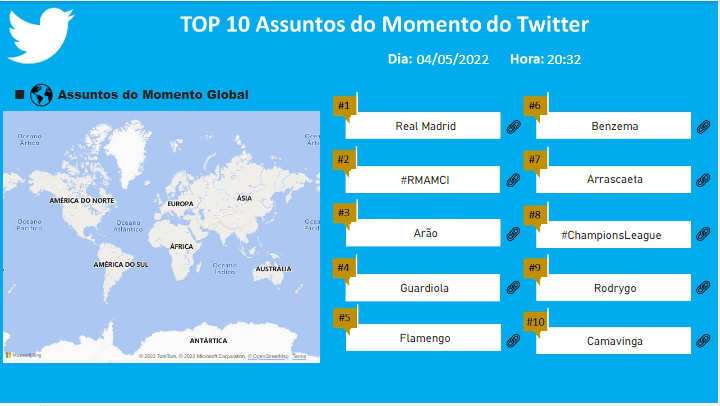

Layout of this report page (visuals, bound fields, positions):
{"tool":"powerbi","page":{"name":"Página 1","canvas":[1280,720],"ordinal":0},"visuals":[{"type":"filledMap","fields":{"Category":["trends.País"]},"box":[0,190.7,575.6,459.8],"z":0},{"type":"card","fields":{"Values":["Min(trends.name)"]},"box":[625.5,203.2,265.5,39.2],"z":1000},{"type":"card","fields":{"Values":["Min(trends.name)"]},"box":[625.5,299.4,263.8,39.2],"z":2000},{"type":"card","fields":{"Values":["Min(trends.name)"]},"box":[623.8,491.9,265.5,39.2],"z":3000},{"type":"card","fields":{"Values":["Min(trends.name)"]},"box":[625.5,393.9,265.5,39.2],"z":4000},{"type":"card","fields":{"Values":["Min(trends.name)"]},"box":[625.5,582.8,263.8,37.4],"z":5000},{"type":"card","fields":{"Values":["Min(trends.name)"]},"box":[962.4,203.2,267.3,39.2],"z":6000},{"type":"card","fields":{"Values":["Min(trends.name)"]},"box":[962.4,299.4,267.3,37.4],"z":7000},{"type":"card","fields":{"Values":["Min(trends.name)"]},"box":[964.2,491.9,263.8,39.2],"z":8000},{"type":"card","fields":{"Values":["Min(trends.name)"]},"box":[964.2,397.4,251.3,39.2],"z":9000},{"type":"card","fields":{"Values":["Min(trends.name)"]},"box":[964.2,588.1,263.8,37.4],"z":10000},{"type":"slicer","fields":{"Values":["trends.País"]},"box":[13.9,146.1,41.7,40],"z":11000},{"type":"textbox","box":[98,146.1,388.5,46.3],"z":12000},{"type":"image","box":[43.4,142.6,60.9,50.4],"z":13000},{"type":"actionButton","box":[890.4,193,50.4,52.2],"z":14000},{"type":"actionButton","box":[890.4,290.4,50.4,53.9],"z":15000},{"type":"actionButton","box":[890.4,384.3,50.4,52.2],"z":16000},{"type":"actionButton","box":[890.4,481.7,50.4,52.2],"z":17000},{"type":"actionButton","box":[890.4,570.4,50.4,53.9],"z":18000},{"type":"actionButton","box":[1227.8,193,50.4,52.2],"z":19000},{"type":"actionButton","box":[1227.8,290.4,50.4,53.9],"z":20000},{"type":"actionButton","box":[1227.8,387.8,50.4,52.2],"z":21000},{"type":"actionButton","box":[1227.8,483.5,50.4,52.2],"z":22000},{"type":"actionButton","box":[1227.8,577.4,50.4,52.2],"z":23000},{"type":"card","fields":{"Values":["Min(trends.data.1)"]},"box":[723.6,87.3,165.7,32.1],"z":23001},{"type":"card","fields":{"Values":["Min(trends.data.2)"]},"box":[964.2,87.3,82,32.1],"z":23002}]}

Visuals, with their boxes in screenshot pixels (x1, y1, x2, y2), scaled from the page's 1280x720 canvas onto the 720x406 screenshot:
filledMap - trends.País: BBox(0, 108, 324, 367)
card - Min(trends.name): BBox(352, 115, 501, 137)
card - Min(trends.name): BBox(352, 169, 500, 191)
card - Min(trends.name): BBox(351, 277, 500, 299)
card - Min(trends.name): BBox(352, 222, 501, 244)
card - Min(trends.name): BBox(352, 329, 500, 350)
card - Min(trends.name): BBox(541, 115, 692, 137)
card - Min(trends.name): BBox(541, 169, 692, 190)
card - Min(trends.name): BBox(542, 277, 691, 299)
card - Min(trends.name): BBox(542, 224, 684, 246)
card - Min(trends.name): BBox(542, 332, 691, 353)
slicer - trends.País: BBox(8, 82, 31, 105)
textbox: BBox(55, 82, 274, 108)
image: BBox(24, 80, 59, 109)
actionButton: BBox(501, 109, 529, 138)
actionButton: BBox(501, 164, 529, 194)
actionButton: BBox(501, 217, 529, 246)
actionButton: BBox(501, 272, 529, 301)
actionButton: BBox(501, 322, 529, 352)
actionButton: BBox(691, 109, 719, 138)
actionButton: BBox(691, 164, 719, 194)
actionButton: BBox(691, 219, 719, 248)
actionButton: BBox(691, 273, 719, 302)
actionButton: BBox(691, 326, 719, 355)
card - Min(trends.data.1): BBox(407, 49, 500, 67)
card - Min(trends.data.2): BBox(542, 49, 588, 67)
